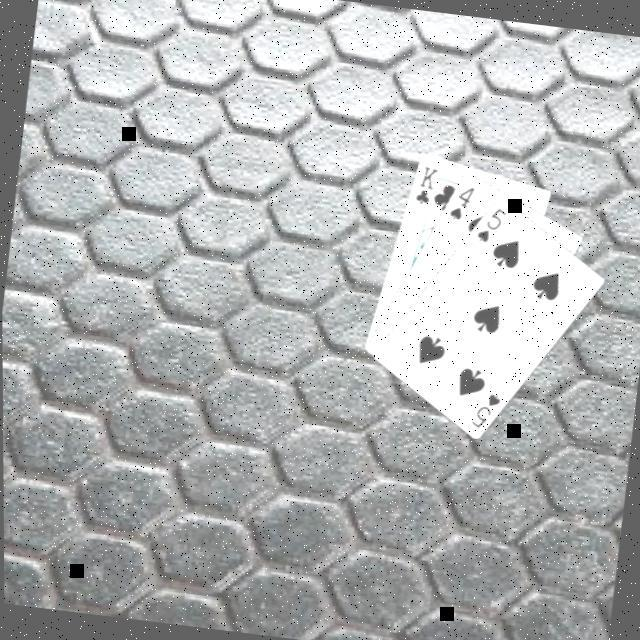4S: (445, 179, 478, 223)
5S: (473, 200, 511, 246), (467, 386, 505, 432)
KC: (410, 160, 444, 213)
